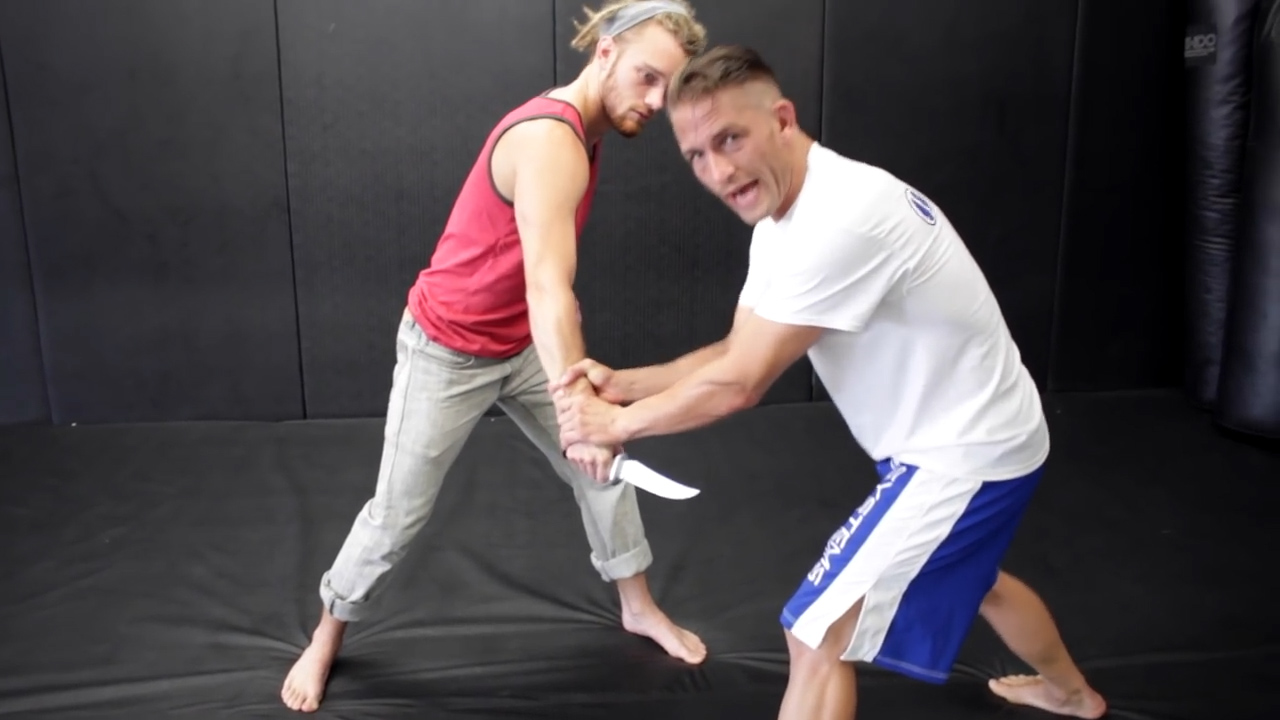knife: (557, 445, 708, 511)
